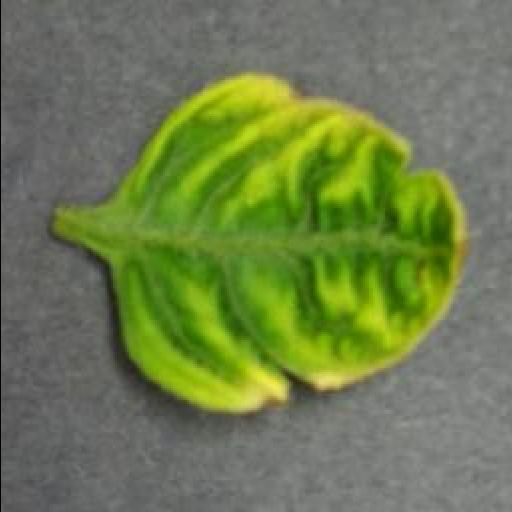disease_tomato: (110, 72, 470, 416)
